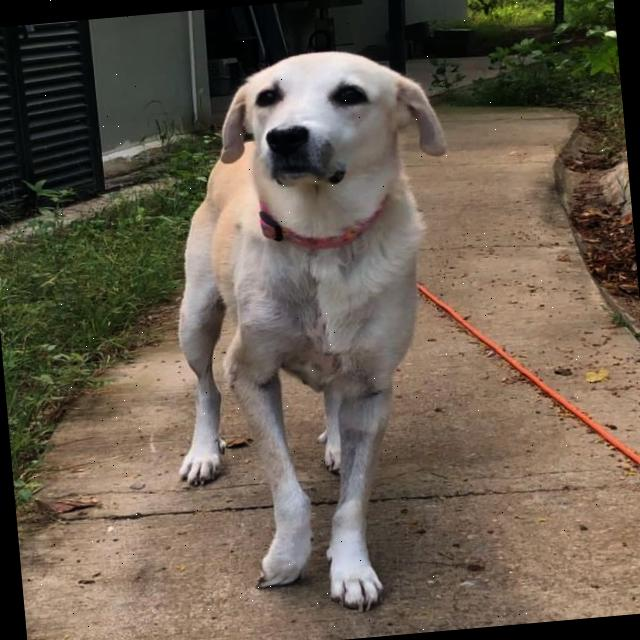labrador_retriever_dog: (198, 30, 461, 216)
